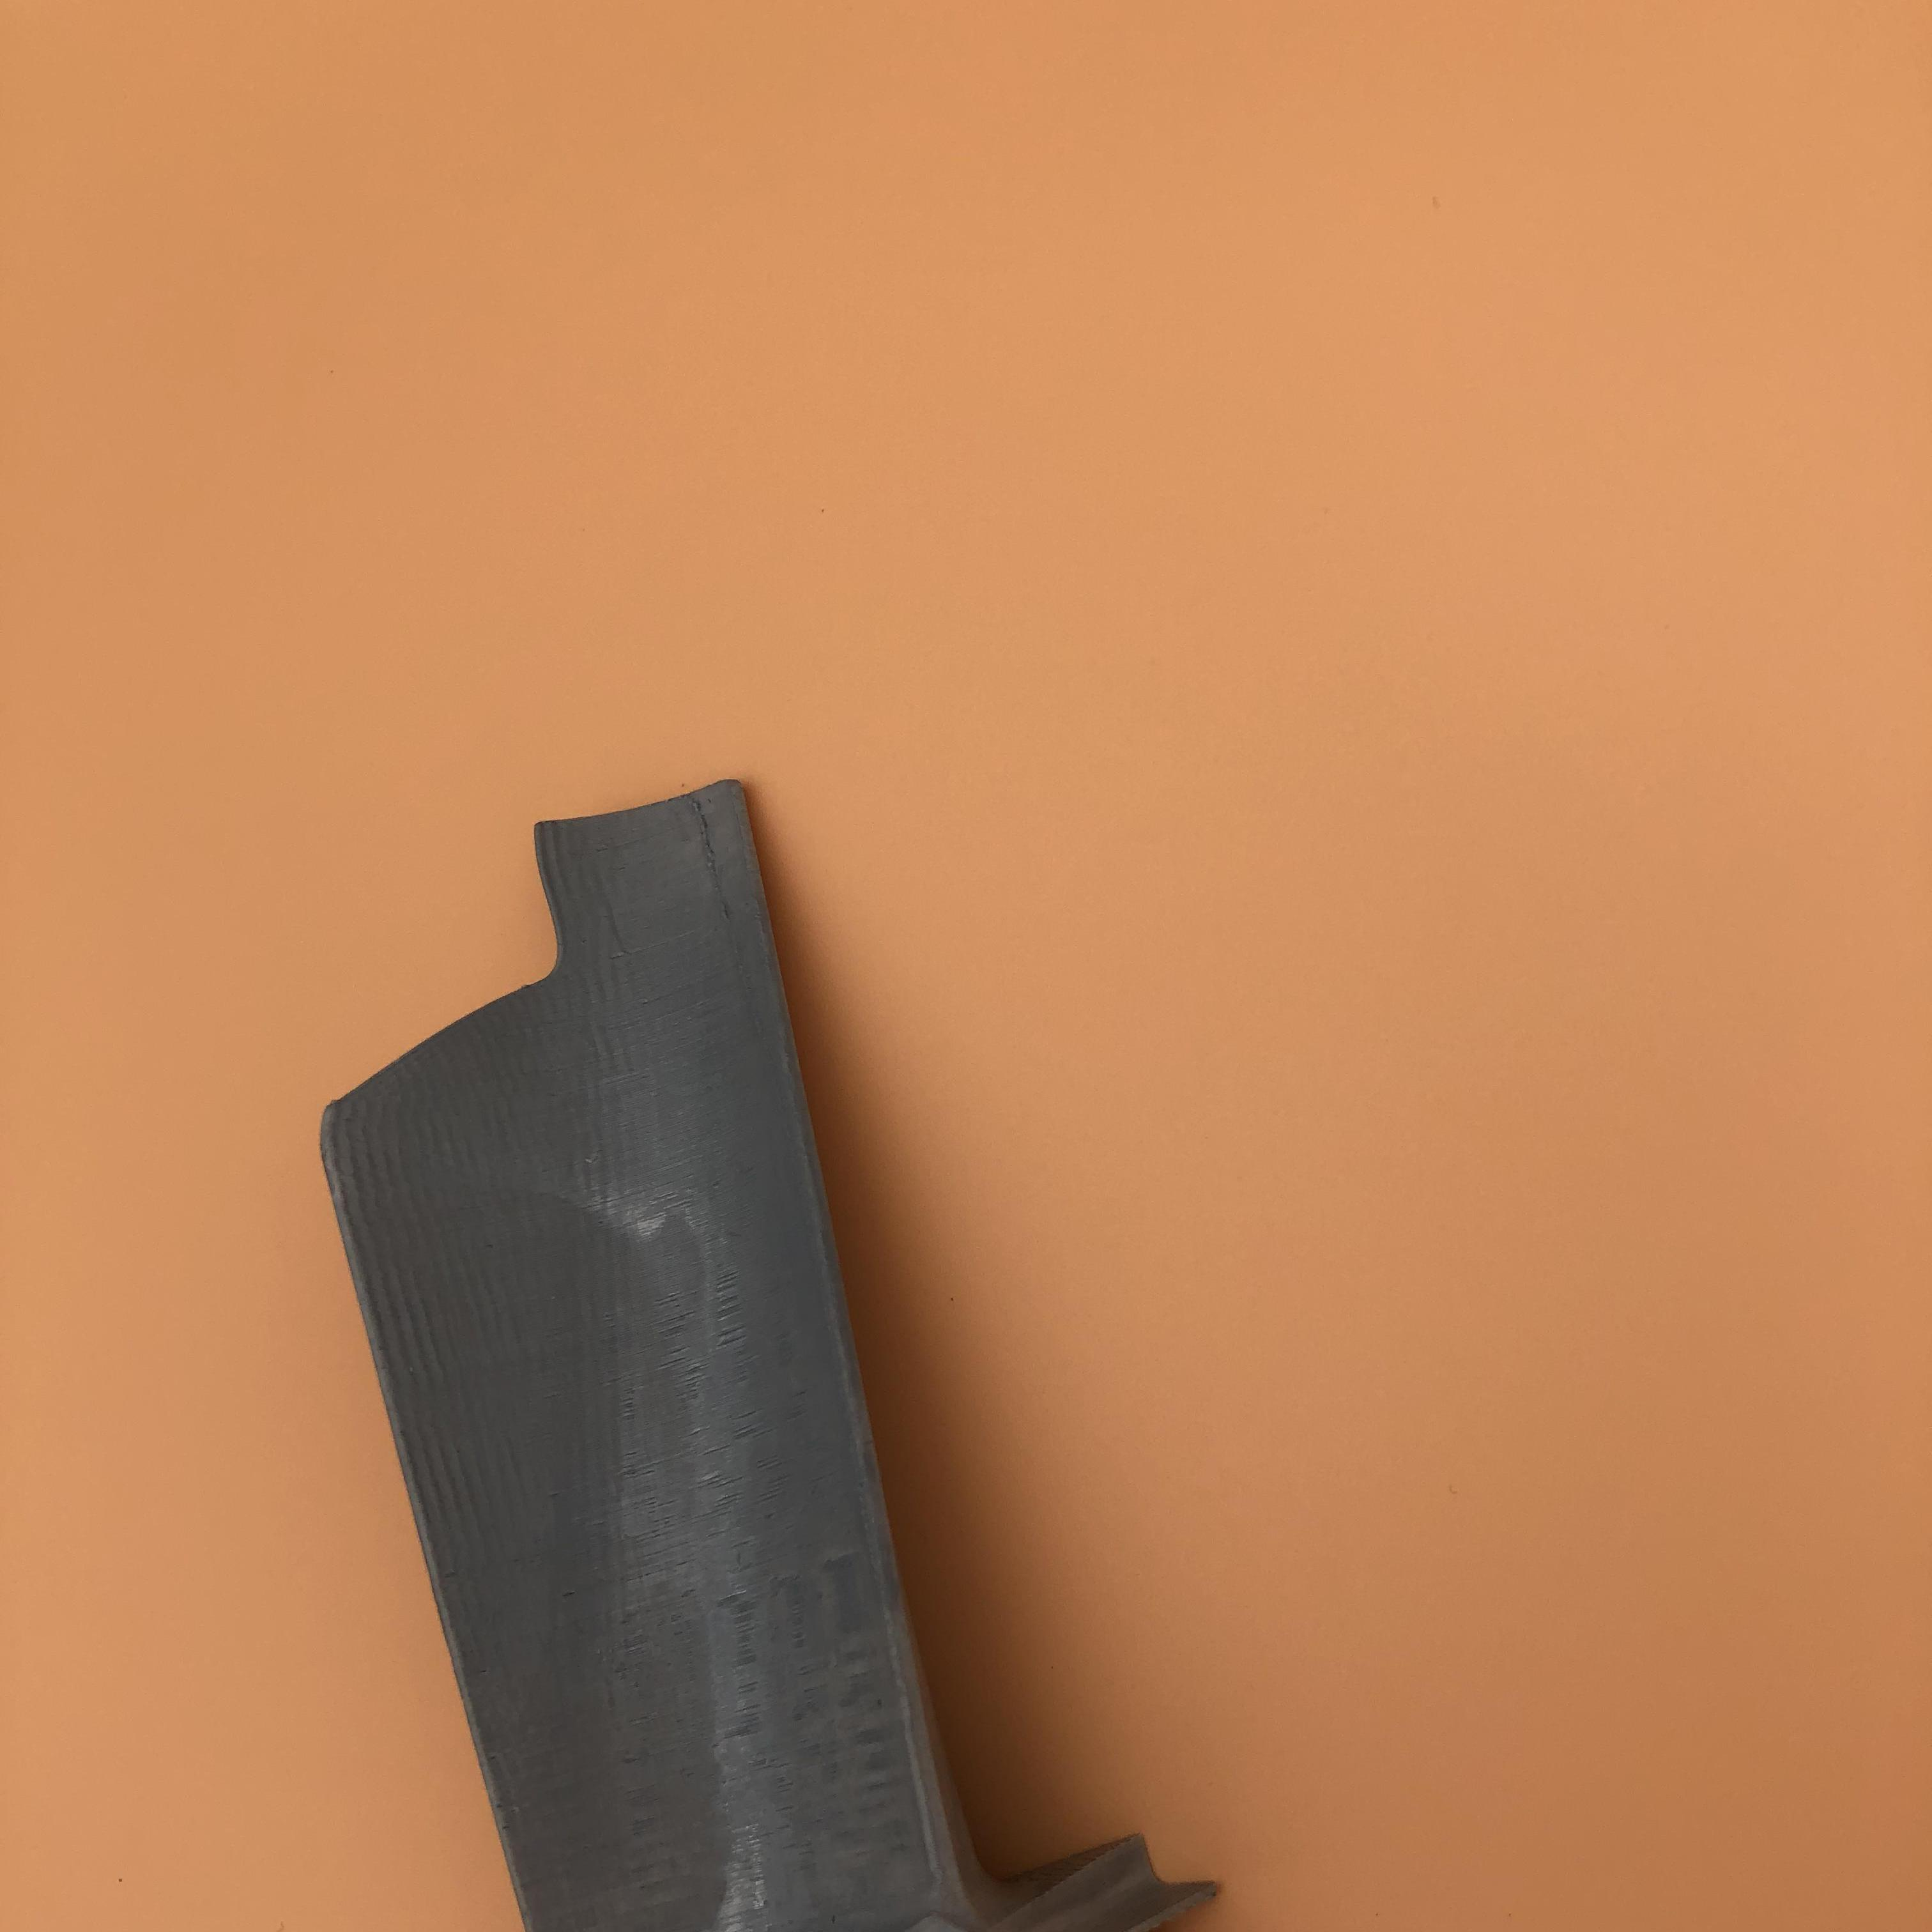fracture: (329, 858, 628, 1136)
